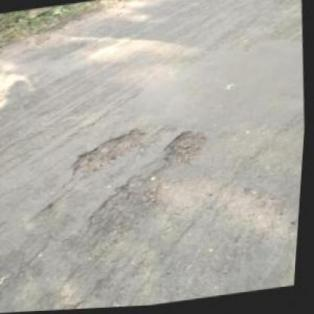Hueco: (84, 173, 171, 241), (70, 127, 153, 176), (161, 129, 213, 171)
